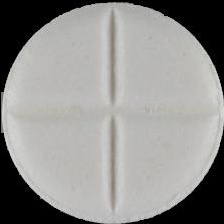55289-344: (0, 0, 224, 224)
